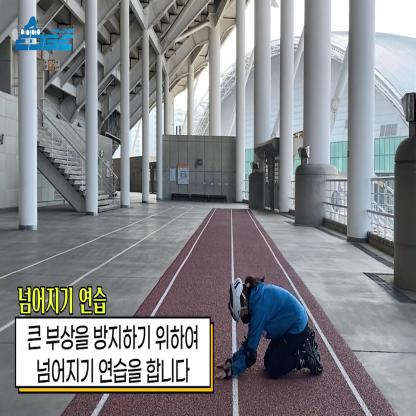Fall_Down: (214, 282, 322, 384)
